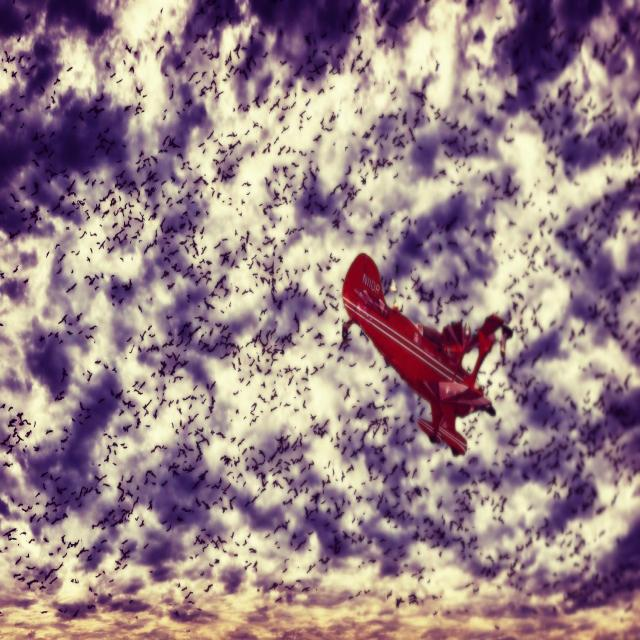airplane: (341, 251, 513, 457)
